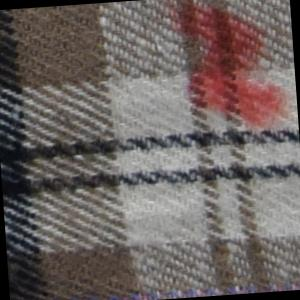Stain: (166, 1, 294, 146)
